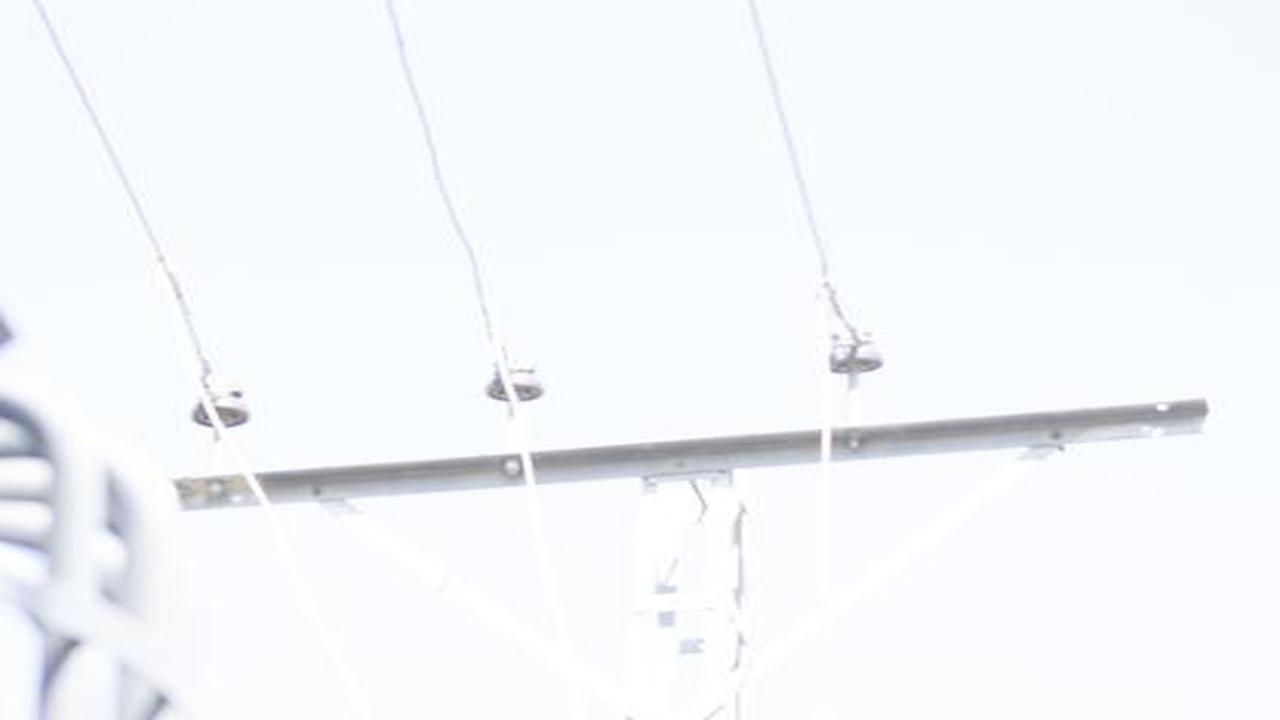insulator_pin: (821, 331, 886, 382), (192, 380, 253, 432), (482, 356, 543, 408)
